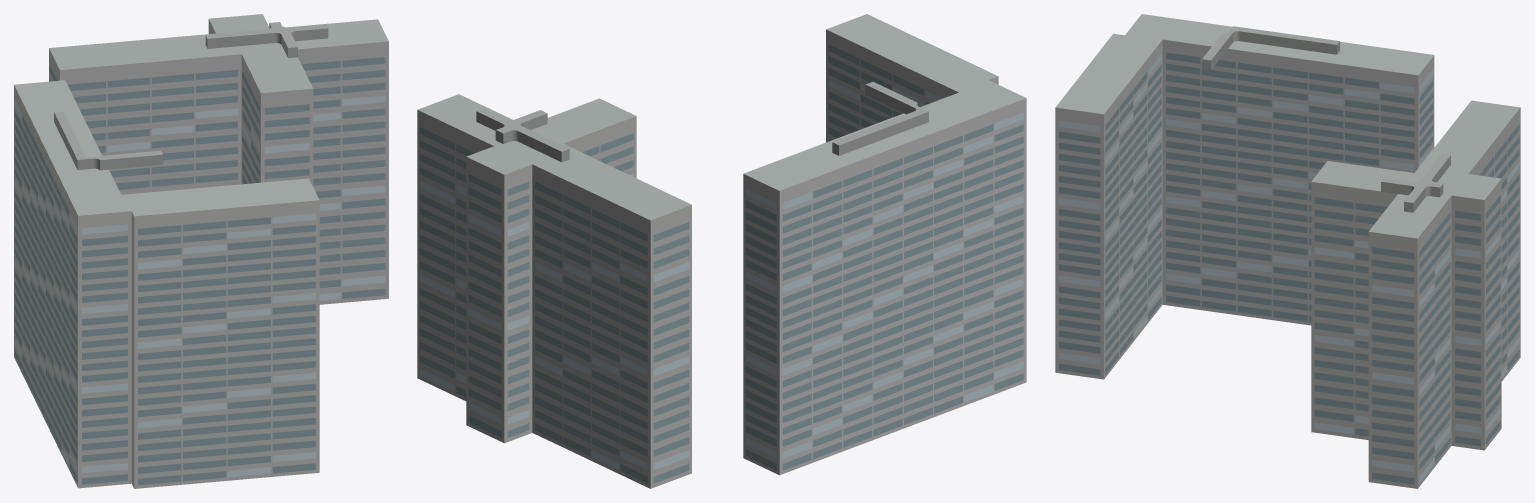
The model's file is apt-a13406205.glb.
3 renders of one model, left to right at view 1: azimuth 30°, elevation 25°; view 2: azimuth 150°, elevation 25°; view 3: azimuth 270°, elevation 25°, orthographic. The views are drawn at different scales.
Parts seen in each view (by area): view 1: apt-a13406205; view 2: apt-a13406205; view 3: apt-a13406205.
Boxes of the visible parts, x1,y1,x2,y2 form: apt-a13406205: (14,14,388,488); apt-a13406205: (417,14,1026,488); apt-a13406205: (1055,14,1520,488).
Size of the model in its own units: 110 by 67 by 103.
